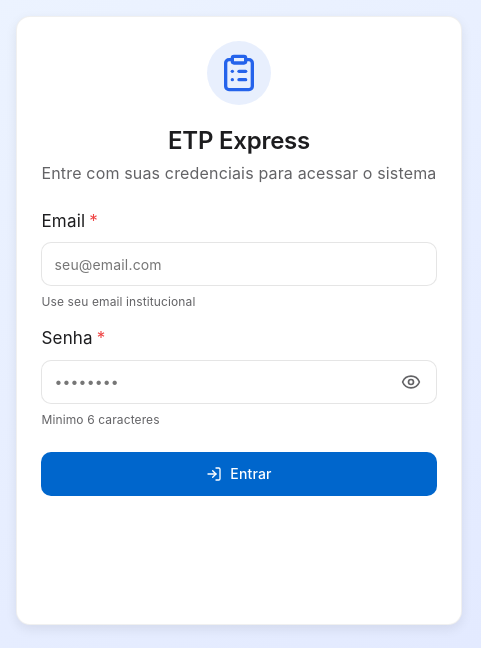
Test: Login › Real-time Validation › should show alert icon for invalid email after debounce
Type "invalid-email" into the field labelled "Email *" at point(239, 264), box [42,242,436,286]
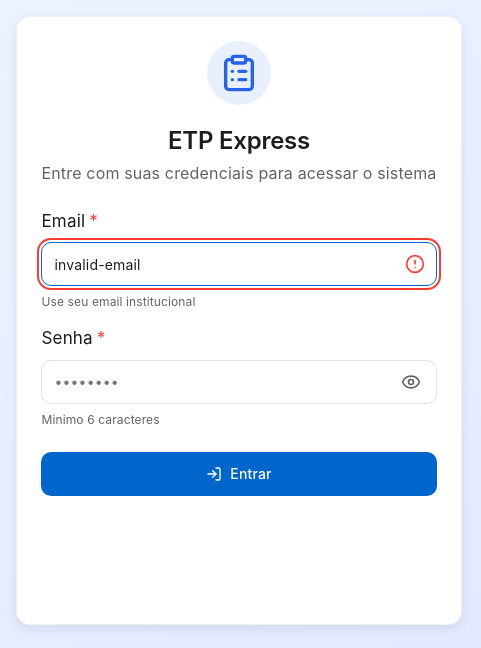
Now the icon with test id "validation-alert" is shown, box [404,254,424,274]
